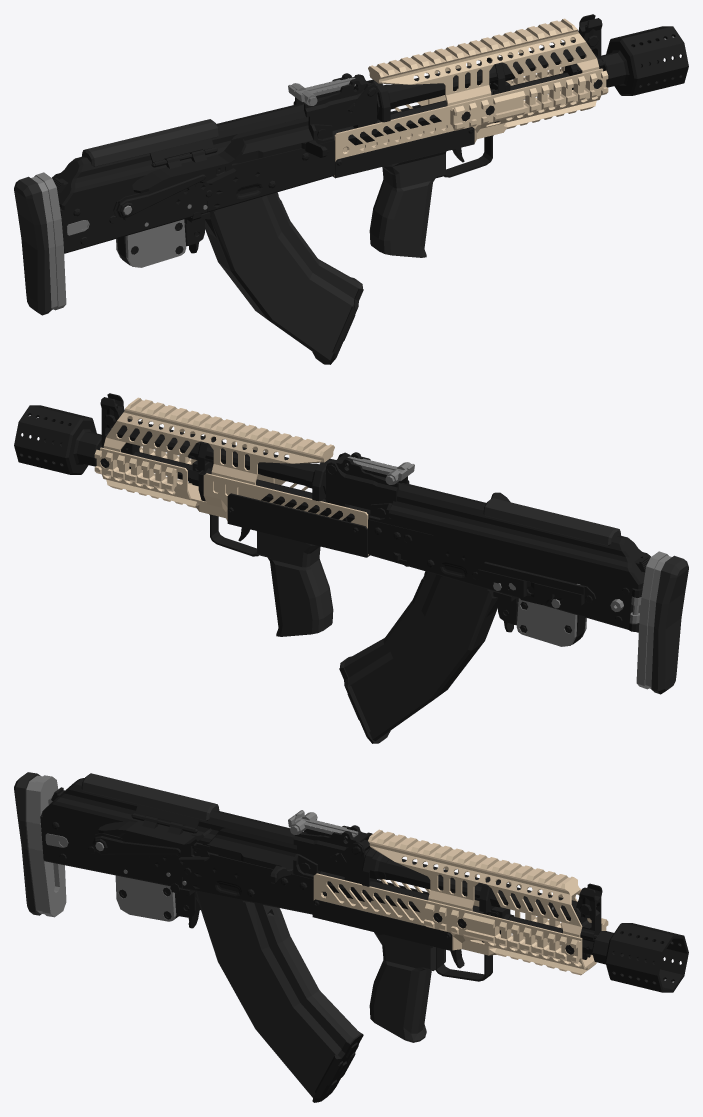
File: buran.gltf
3 views of the same model, one above another, from view 1: azimuth 30°, elevation 25°; view 2: azimuth 150°, elevation 25°; view 3: azimuth 330°, elevation 25° (orthographic).
Parts seen in each view (by area): view 1: kochevnik handguard_8, kochevnik receiver_3, akm 30rnd mag (polymer)_13, kochevnik dust cover_6, kochevnik muzzle device_7, kochevnik barrel_4, kochevnik bolt_5, kochevnik selector_0; view 2: kochevnik receiver_3, kochevnik handguard_8, akm 30rnd mag (polymer)_13, kochevnik dust cover_6, kochevnik muzzle device_7, kochevnik barrel_4; view 3: kochevnik handguard_8, kochevnik receiver_3, akm 30rnd mag (polymer)_13, kochevnik dust cover_6, kochevnik muzzle device_7, kochevnik barrel_4, kochevnik bolt_5, kochevnik selector_0.
Boxes of the visible parts, x1=… form: kochevnik handguard_8: x1=333, y1=18, x2=608, y2=257; kochevnik receiver_3: x1=14, y1=45, x2=560, y2=315; akm 30rnd mag (polymer)_13: x1=205, y1=192, x2=363, y2=364; kochevnik dust cover_6: x1=52, y1=104, x2=305, y2=210; kochevnik muzzle device_7: x1=601, y1=26, x2=688, y2=95; kochevnik barrel_4: x1=332, y1=14, x2=605, y2=143; kochevnik bolt_5: x1=231, y1=117, x2=327, y2=163; kochevnik selector_0: x1=113, y1=164, x2=236, y2=220; kochevnik receiver_3: x1=142, y1=424, x2=688, y2=694; kochevnik handguard_8: x1=94, y1=397, x2=369, y2=636; akm 30rnd mag (polymer)_13: x1=339, y1=571, x2=497, y2=743; kochevnik dust cover_6: x1=388, y1=483, x2=650, y2=589; kochevnik muzzle device_7: x1=14, y1=405, x2=101, y2=474; kochevnik barrel_4: x1=98, y1=393, x2=370, y2=522; kochevnik handguard_8: x1=312, y1=829, x2=608, y2=1042; kochevnik receiver_3: x1=14, y1=772, x2=560, y2=921; akm 30rnd mag (polymer)_13: x1=195, y1=891, x2=363, y2=1102; kochevnik dust cover_6: x1=42, y1=773, x2=306, y2=847; kochevnik muzzle device_7: x1=592, y1=923, x2=688, y2=992; kochevnik barrel_4: x1=319, y1=871, x2=623, y2=959; kochevnik bolt_5: x1=196, y1=828, x2=553, y2=909; kochevnik selector_0: x1=91, y1=833, x2=209, y2=861.
Size of the model in its own units: 6.1 by 2.49 by 0.6828.
